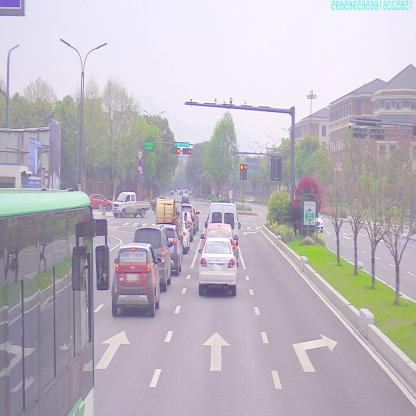traffic-light: (174, 141, 190, 146), (182, 146, 191, 154), (171, 149, 180, 153)
